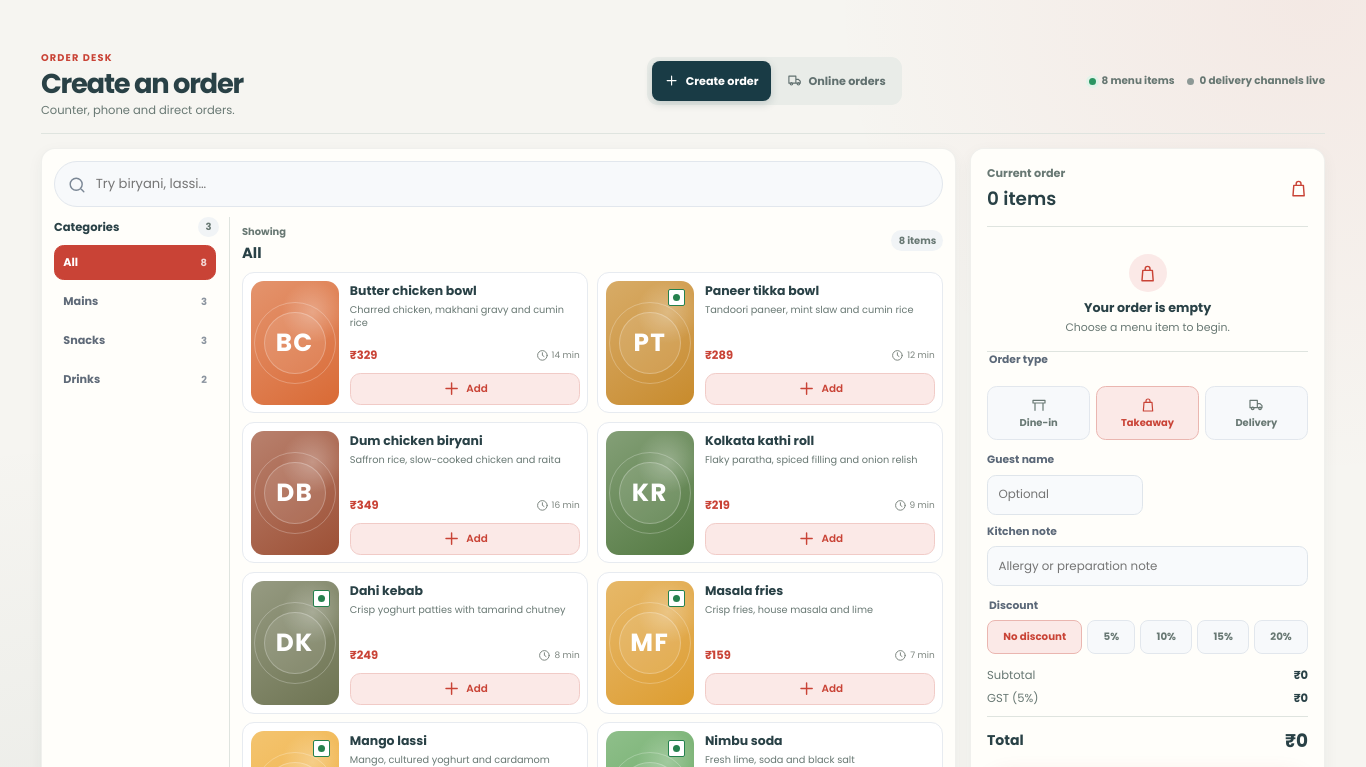
it: order entry › keeps the cart open and reports a durability failure
Click the button "Add" below "₹329".
click(465, 389)  # box [350, 373, 580, 405]
(page scrolled)
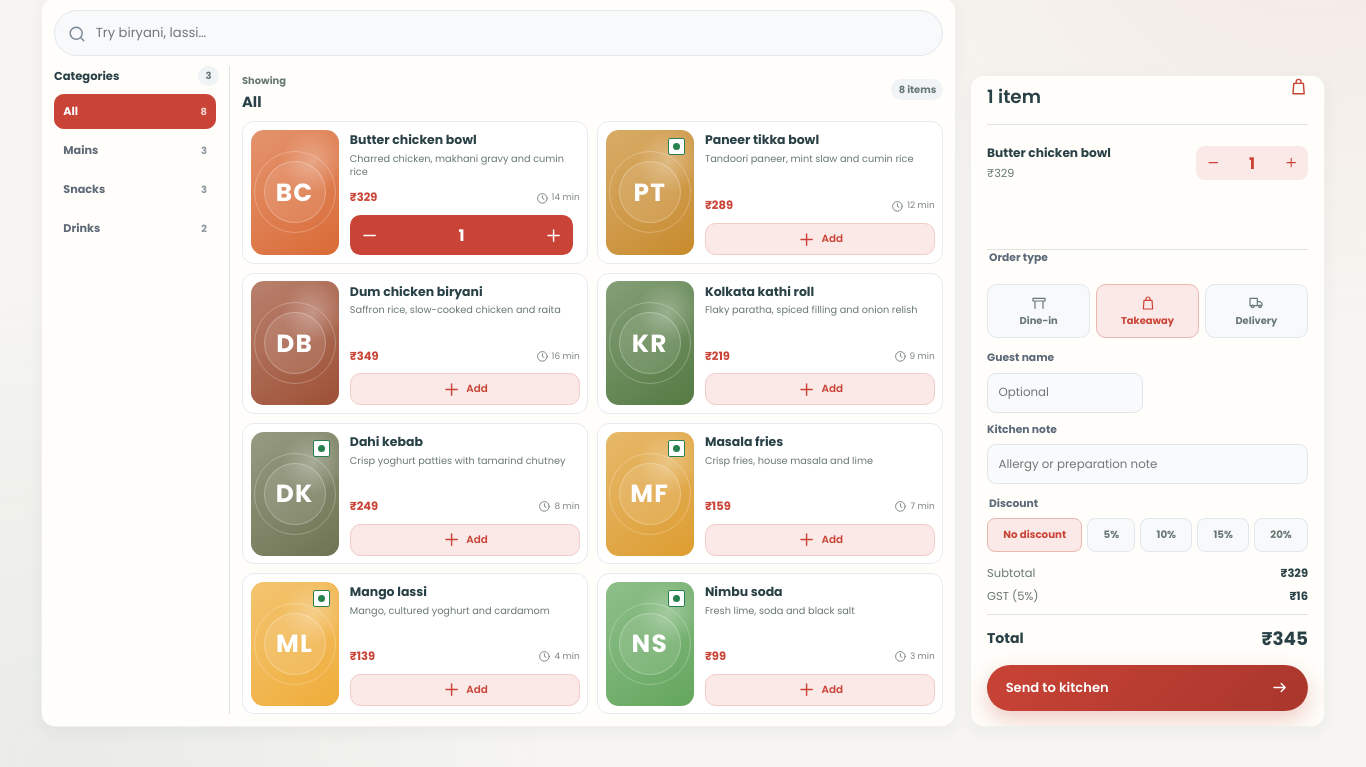
Click the button "Send to kitchen".
click(1057, 687)  # box [987, 665, 1308, 711]
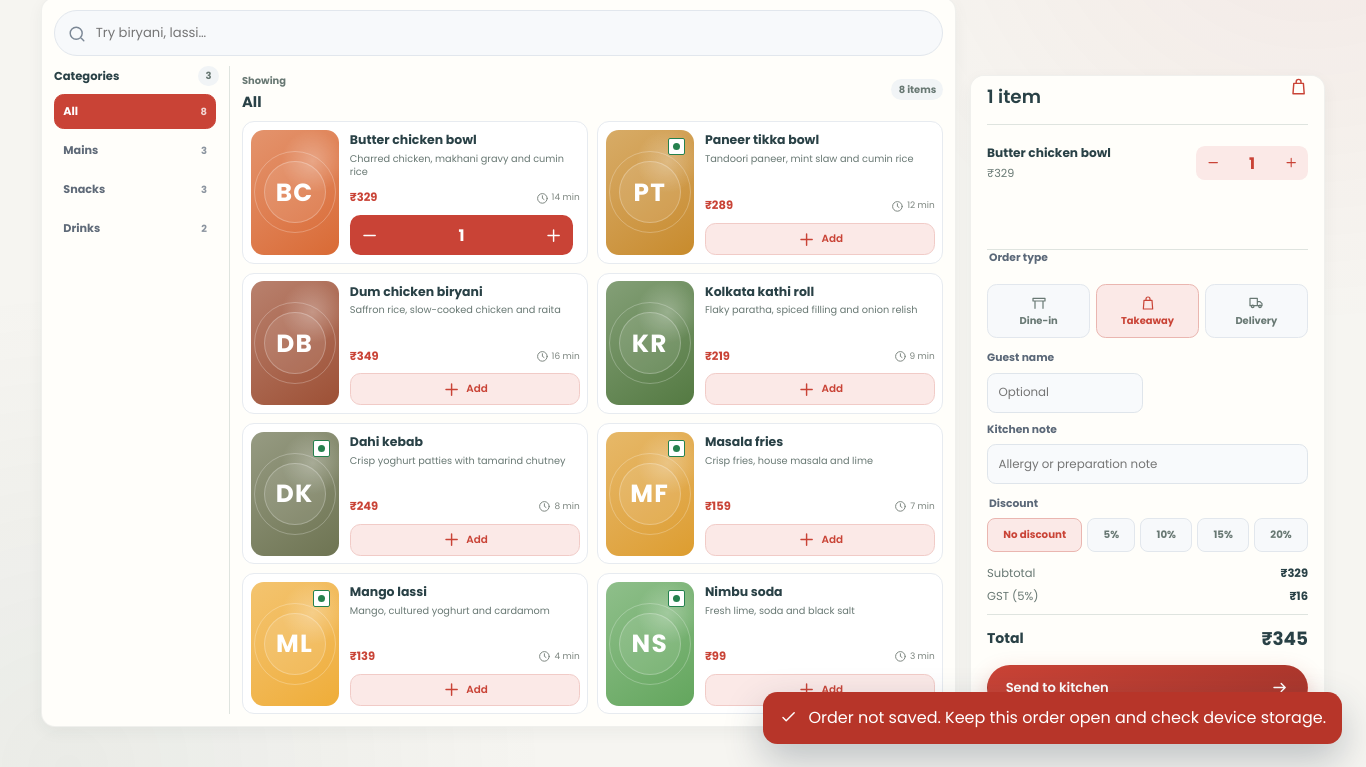
Check: the text "1 item" is shown, box [987, 84, 1041, 109]
Check: the message "Order not saved. Keep this order open and check device storage." is shown, box [763, 692, 1342, 744]
